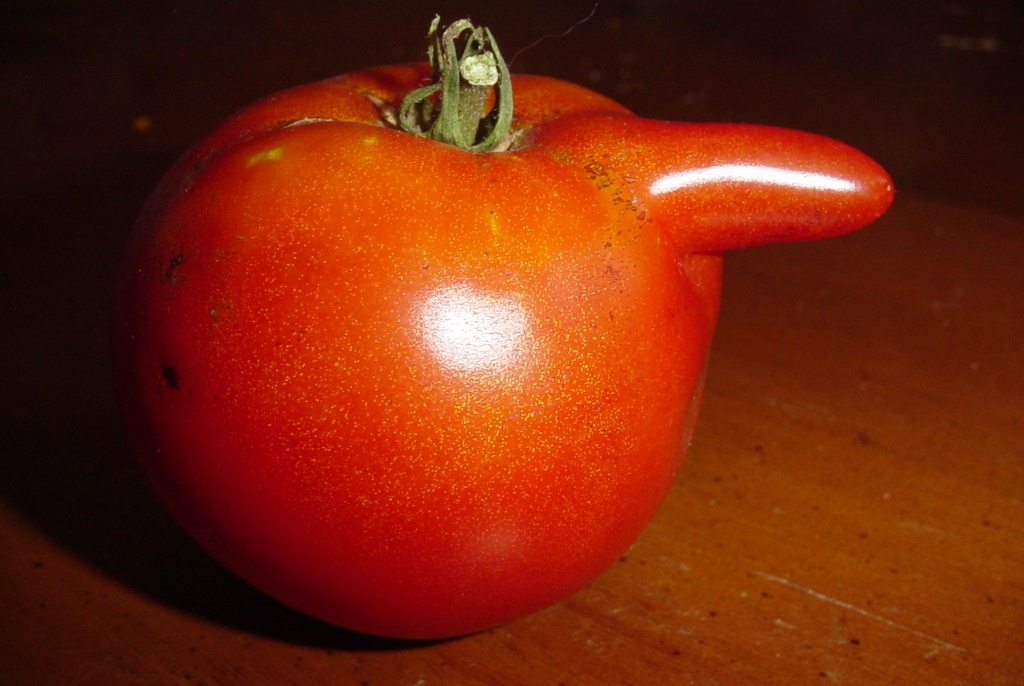Tomato: (124, 11, 892, 642)
